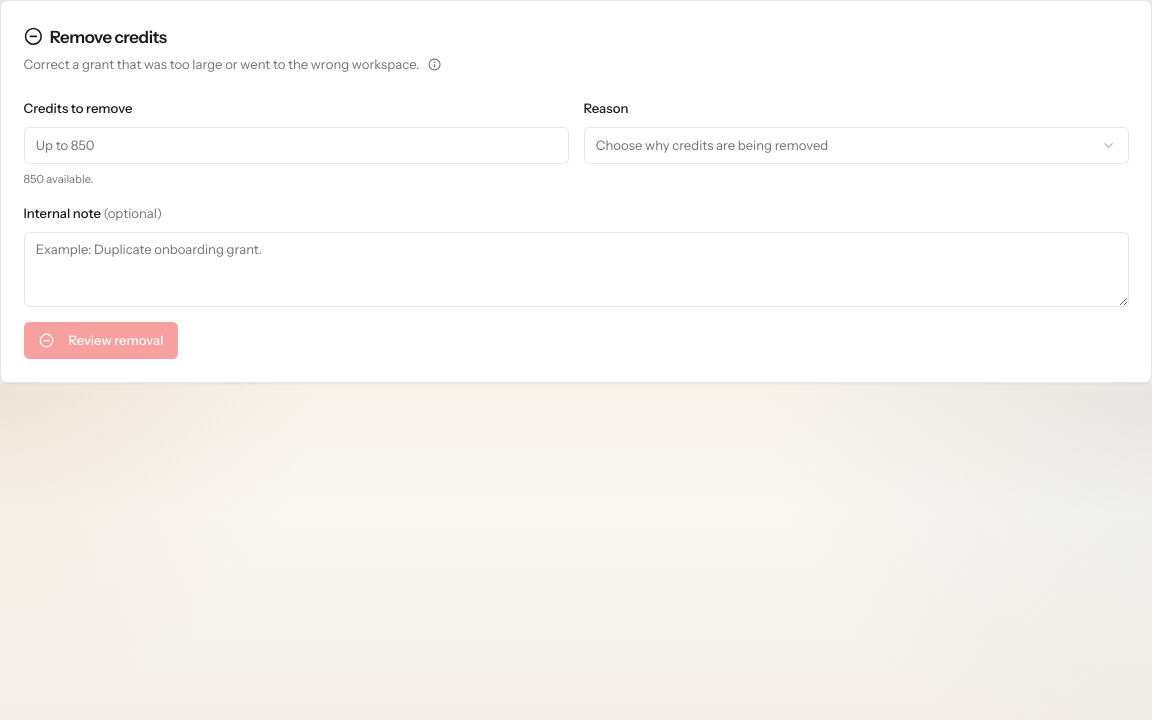
WorkspaceCreditAdjustment › caps the amount at the available balance
expect the text "850 available." is shown: met, box top-left (24, 172), bottom-right (93, 186)
Type "851" into the field labelled "Credits to remove" at (296, 145), box top-left (24, 127), bottom-right (568, 164)
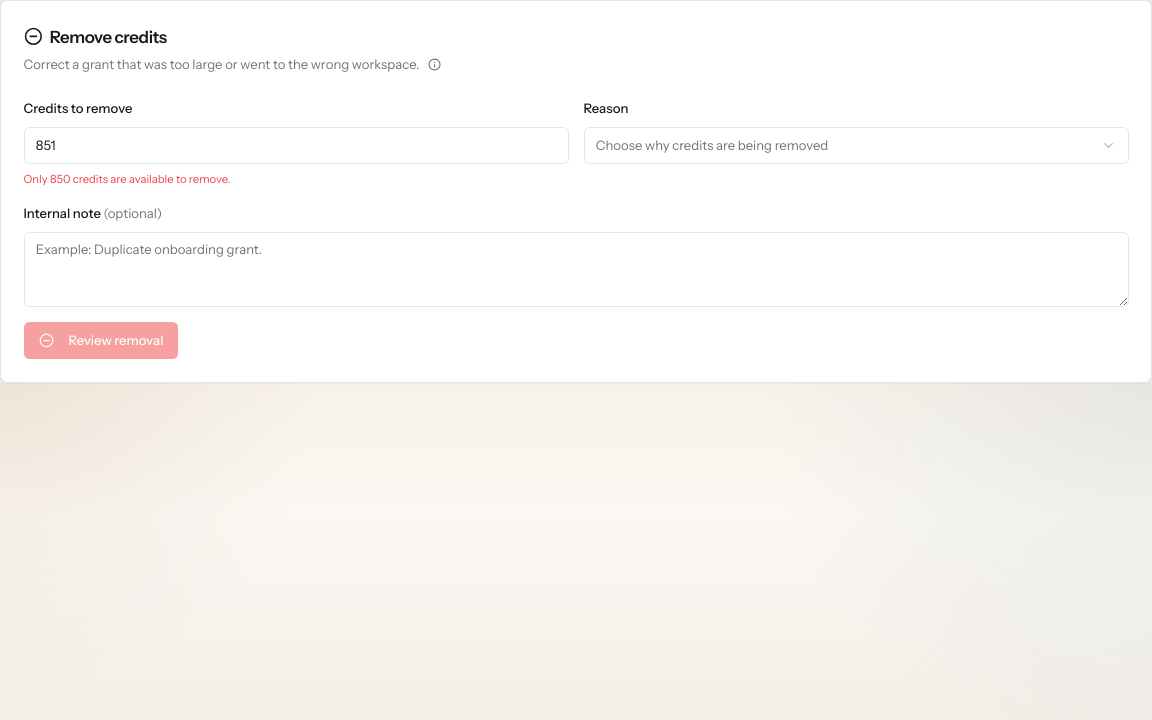
Click the dropdown named "Reason" at (712, 145), box top-left (584, 127), bottom-right (1128, 164)
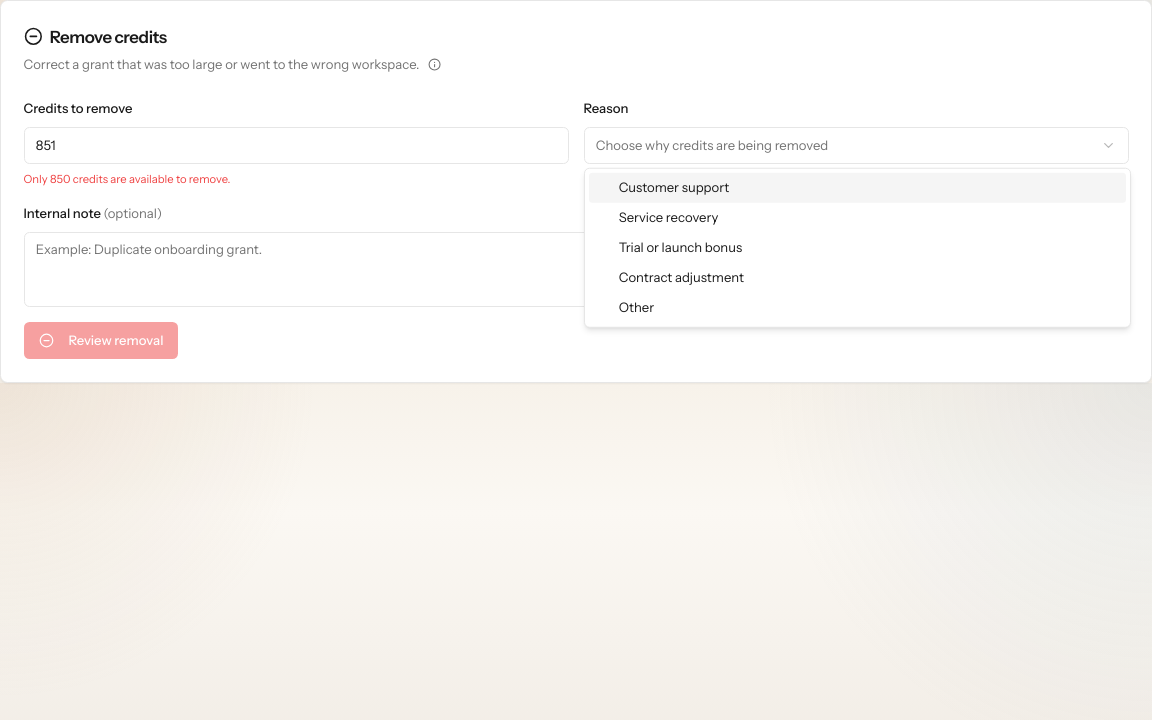
Click the option "Other" at (636, 307), box top-left (619, 299), bottom-right (654, 315)
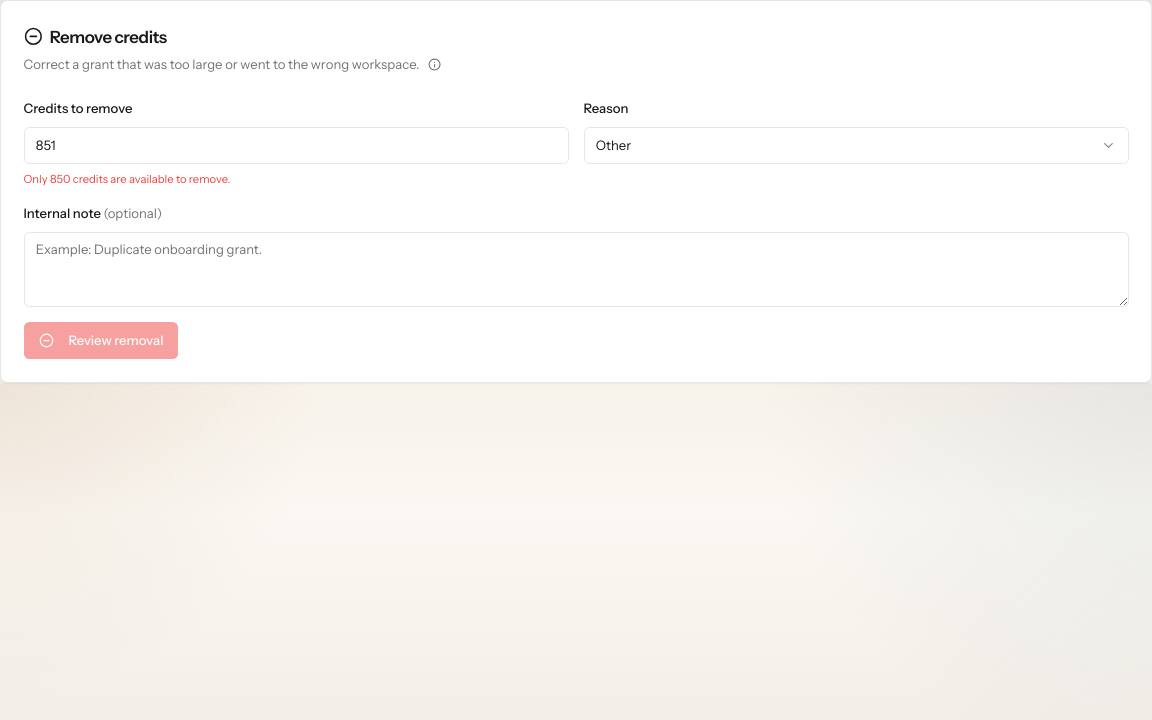
expect the button "Review removal" is disabled: met, box top-left (24, 322), bottom-right (178, 359)
expect the text "Only 850 credits are available to remove." is shown: met, box top-left (24, 172), bottom-right (230, 186)
Replace the text in the field labelled "Credits to remove" with "850" at (296, 145), box top-left (24, 127), bottom-right (568, 164)
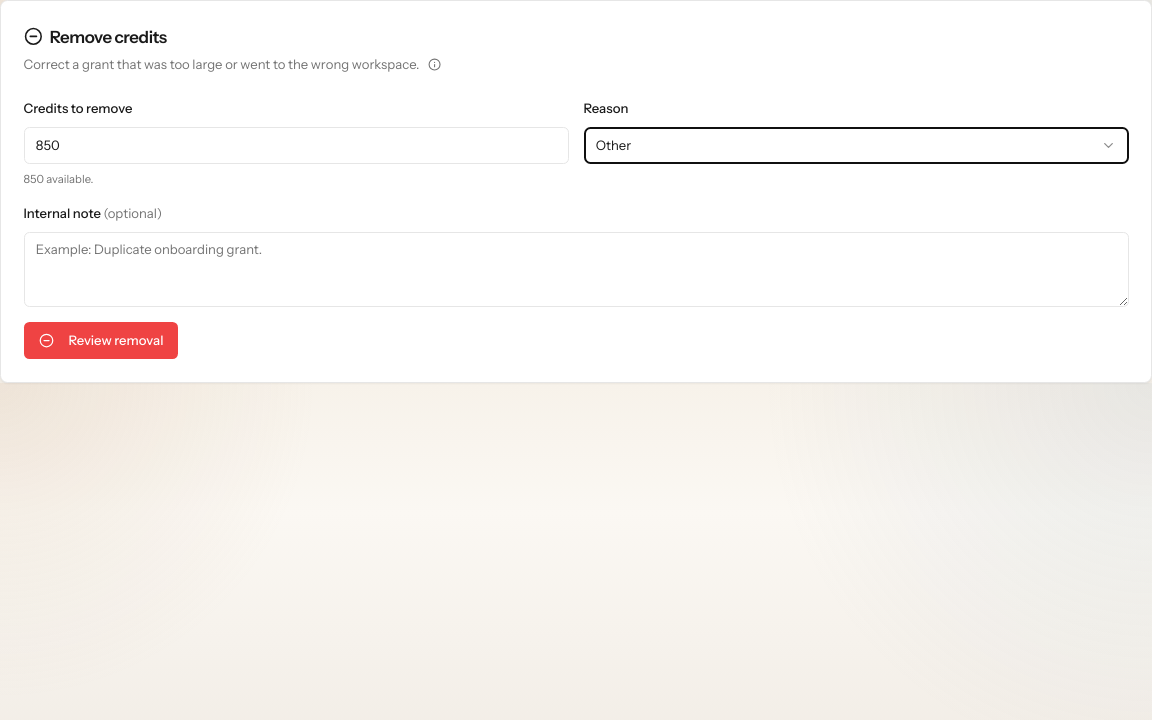
expect the button "Review removal" is enabled: met, box top-left (24, 322), bottom-right (178, 359)
